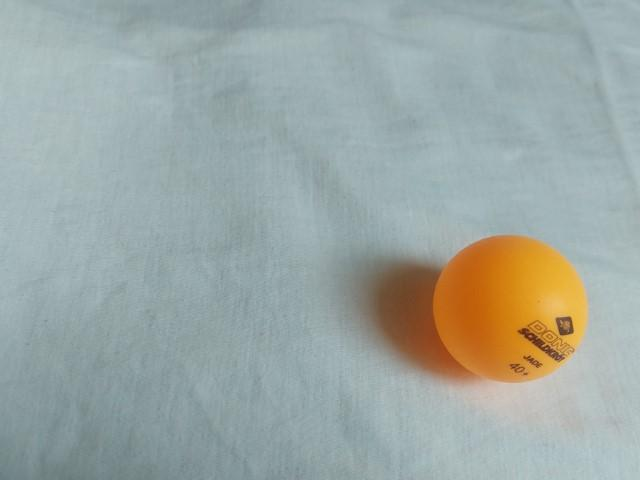oball: (420, 224, 598, 395)
